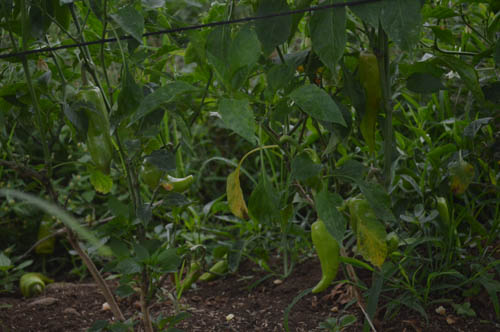ChiliPepper: (353, 54, 378, 147), (310, 223, 341, 293), (145, 170, 191, 191)
